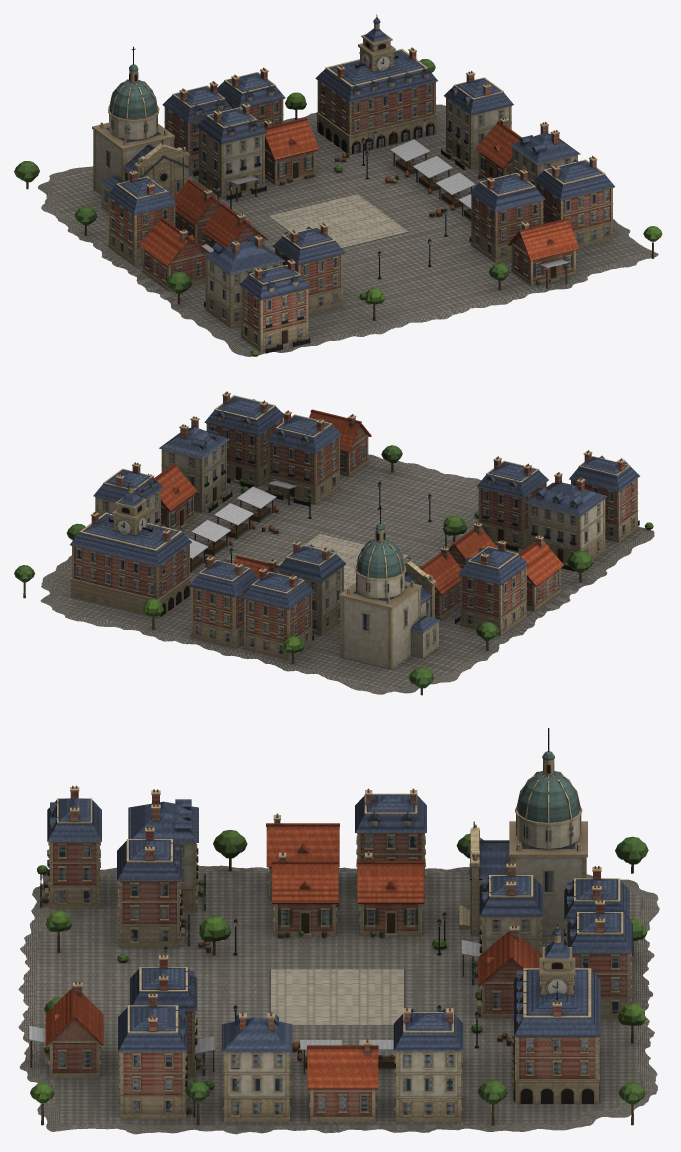
Rendered from gunpowder-town-medium-a-europe.glb.
3 renders of one model, top to bottom at view 1: azimuth 30°, elevation 25°; view 2: azimuth 150°, elevation 25°; view 3: azimuth 270°, elevation 25°, orthographic. The views are drawn at different scales.
Parts seen in each view (by area): view 1: LOD0; view 2: LOD0; view 3: LOD0.
Part boxes in pixels (x1=…): LOD0: x1=14, y1=14, x2=662, y2=356; LOD0: x1=14, y1=391, x2=654, y2=695; LOD0: x1=18, y1=728, x2=659, y2=1134.
Size of what is drawn, in the model's own units: 6.03 by 2 by 6.09.
3 materials, 3 textured.
